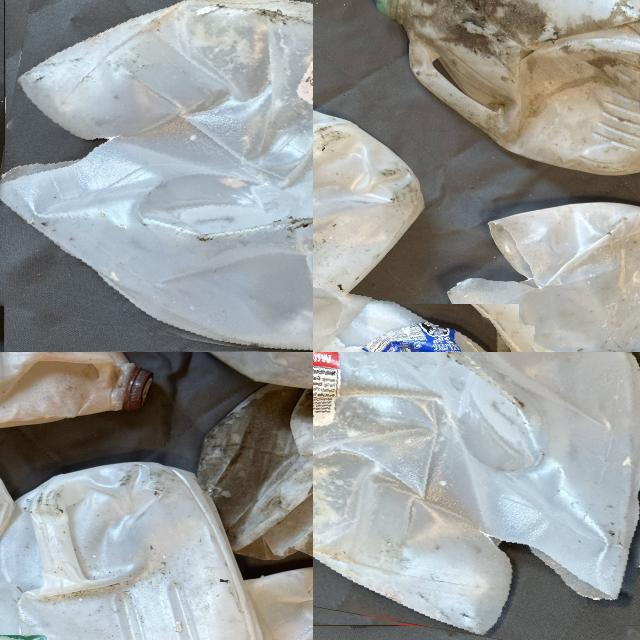milk-jug: (0, 0, 313, 352), (313, 352, 640, 640), (375, 0, 640, 174), (0, 457, 233, 640), (313, 100, 424, 352), (478, 205, 640, 352), (200, 377, 313, 561), (0, 352, 166, 431), (313, 293, 527, 352), (145, 352, 313, 390)
